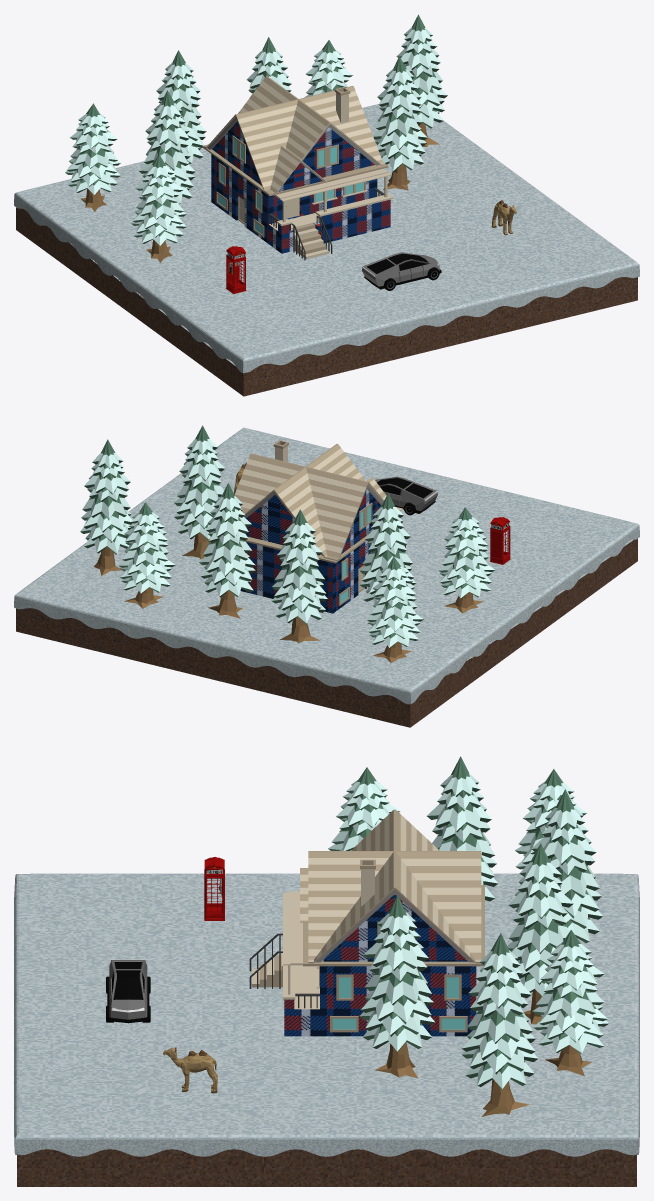
3 renders of one model, top to bottom at view 1: azimuth 30°, elevation 25°; view 2: azimuth 150°, elevation 25°; view 3: azimuth 270°, elevation 25°, orthographic. The views are drawn at different scales.
Parts seen in each view (by area): view 1: Cube.003, Cube.171, VEHICLES_CYBERTRUCK, OBJRANDOM_PHONEBOOTH; view 2: Cube.003, Cube.171, VEHICLES_CYBERTRUCK, OBJRANDOM_PHONEBOOTH; view 3: Cube.003, Cube.171, VEHICLES_CYBERTRUCK, OBJRANDOM_PHONEBOOTH, ANIMAL_CAMELLO.
Boxes of the visible parts, left/top/right/bottom form: Cube.003: left=14, top=14, right=639, bottom=396; Cube.171: left=202, top=76, right=393, bottom=260; VEHICLES_CYBERTRUCK: left=362, top=252, right=441, bottom=290; OBJRANDOM_PHONEBOOTH: left=225, top=246, right=246, bottom=293; Cube.003: left=14, top=425, right=639, bottom=727; Cube.171: left=234, top=440, right=405, bottom=613; VEHICLES_CYBERTRUCK: left=375, top=476, right=437, bottom=515; OBJRANDOM_PHONEBOOTH: left=490, top=517, right=510, bottom=564; Cube.003: left=14, top=756, right=639, bottom=1186; Cube.171: left=249, top=809, right=484, bottom=1036; VEHICLES_CYBERTRUCK: left=106, top=959, right=150, bottom=1023; OBJRANDOM_PHONEBOOTH: left=204, top=857, right=224, bottom=920; ANIMAL_CAMELLO: left=163, top=1047, right=217, bottom=1093.
Size of the model in its own units: 4040 by 1670 by 4040.
37 materials, 4 textured.
